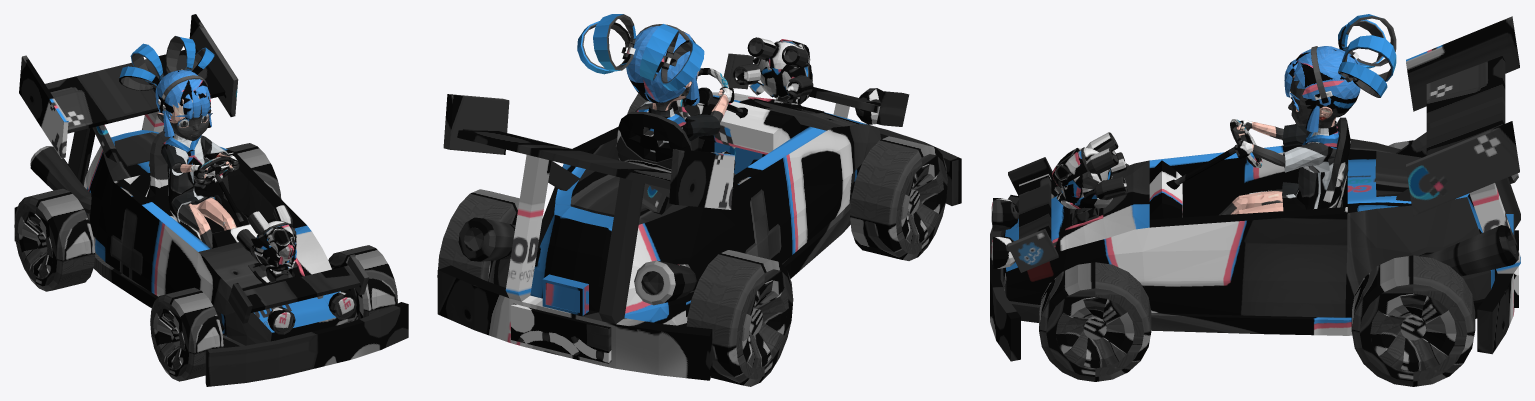
File: kart.glb
3 renders of one model, left to right at view 1: azimuth 30°, elevation 25°; view 2: azimuth 150°, elevation 25°; view 3: azimuth 270°, elevation 25°, orthographic. The views are drawn at different scales.
Visible parts, largest first — view 1: body (×11), wheel-rear-left, wheel-front-left, wheel-front-right, wheel-rear-right; view 2: body (×10), wheel-rear-left, wheel-front-left, wheel-rear-right; view 3: body (×10), wheel-rear-right, wheel-front-right.
Part boxes in pixels (bbox=[...]): body (×11): bbox=[14, 14, 408, 386]; wheel-rear-left: bbox=[14, 188, 95, 291]; wheel-front-left: bbox=[150, 287, 223, 381]; wheel-front-right: bbox=[328, 245, 397, 322]; wheel-rear-right: bbox=[226, 143, 281, 198]; body (×10): bbox=[437, 14, 961, 380]; wheel-rear-left: bbox=[686, 250, 793, 386]; wheel-front-left: bbox=[850, 136, 947, 260]; wheel-rear-right: bbox=[437, 189, 519, 284]; body (×10): bbox=[990, 14, 1520, 361]; wheel-rear-right: bbox=[1351, 255, 1475, 386]; wheel-front-right: bbox=[1039, 262, 1151, 381].
Size of the model in its own units: 0.9287 by 0.9097 by 1.49.
14 materials, 14 textured.
